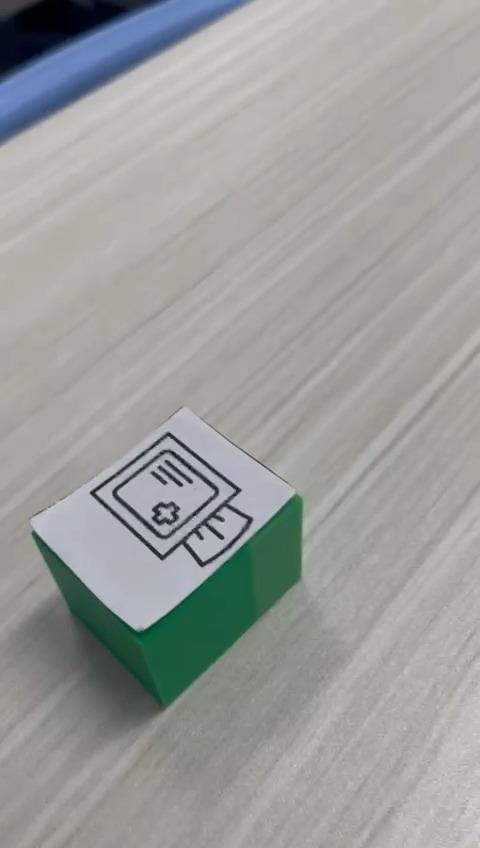Gauze: (28, 404, 304, 708)
